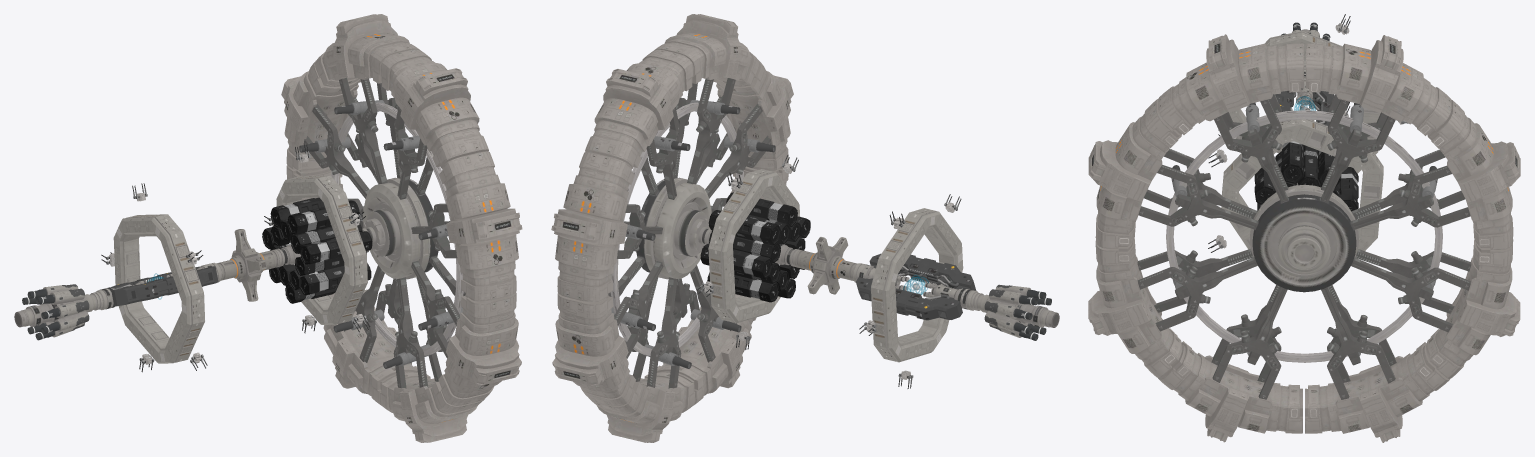
The model's file is colonization.glb.
The picture shows the model from 3 angles, left to right: view 1: azimuth 30°, elevation 25°; view 2: azimuth 150°, elevation 25°; view 3: azimuth 270°, elevation 25°; orthographic projection. The views are drawn at different scales.
Parts seen in each view (by area): view 1: root; view 2: root; view 3: root.
Boxes of the visible parts, box(x1,y1,x2,y2) form: root: box(14, 14, 522, 442); root: box(551, 14, 1059, 442); root: box(1088, 14, 1520, 442).
Size of what is drawn, in the model's own units: 160 by 136 by 136.
22 materials, 22 textured.
